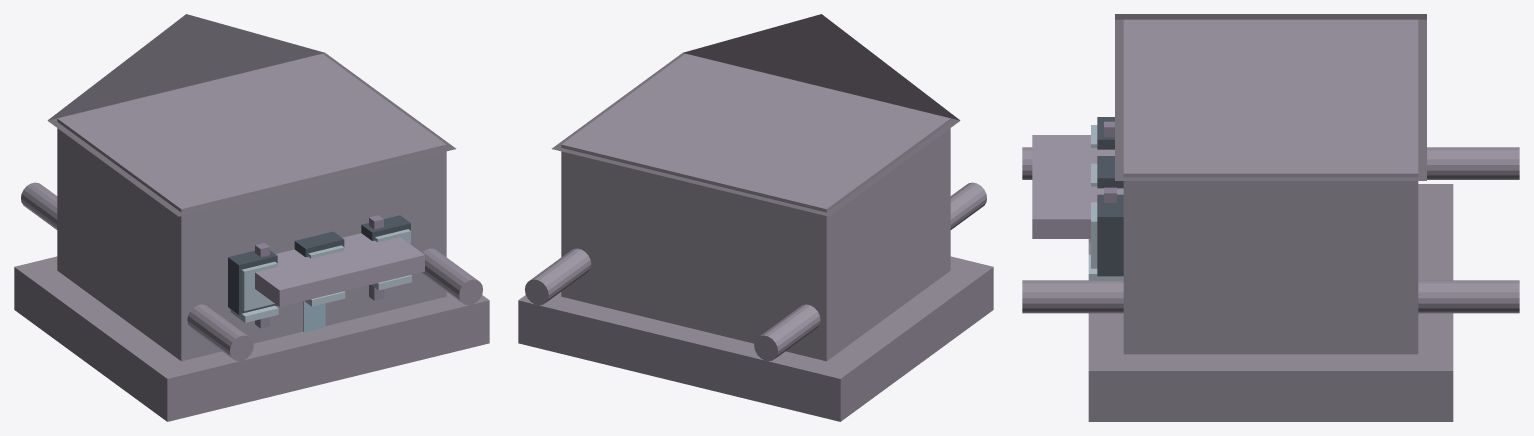
File: building-small-b.glb
3 views of the same model, side by side, from view 1: azimuth 30°, elevation 25°; view 2: azimuth 150°, elevation 25°; view 3: azimuth 270°, elevation 25° (orthographic). The views are drawn at different scales.
Visible parts, largest first — view 1: world; view 2: world; view 3: world.
Boxes of the visible parts, box(x1,y1,x2,y2) form: world: box(14, 14, 489, 421); world: box(518, 14, 993, 421); world: box(1022, 14, 1519, 421).
Bounding box in the file's own units: 1.02 × 0.854 × 1.15.
